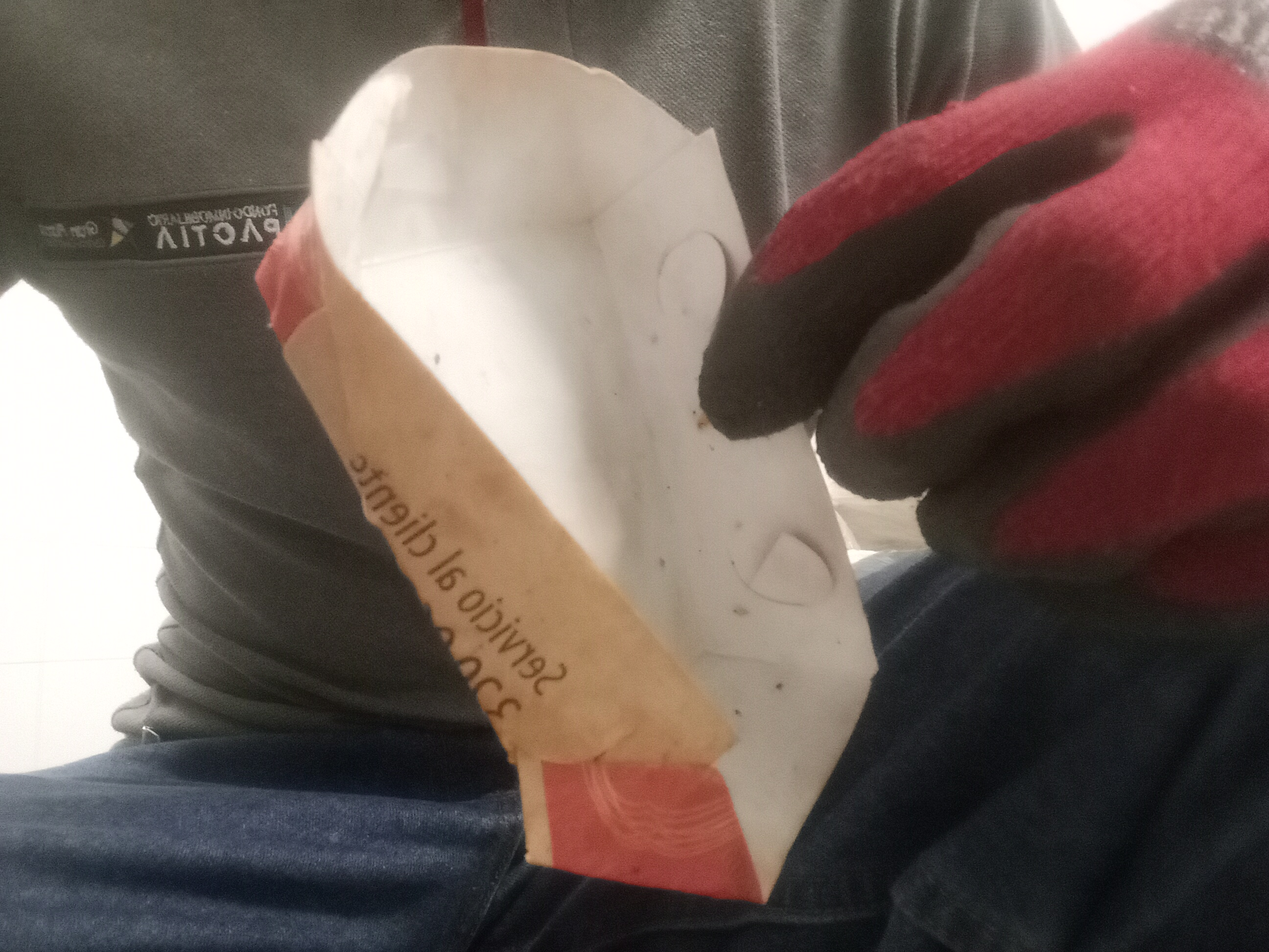Carton: (258, 42, 877, 908)
